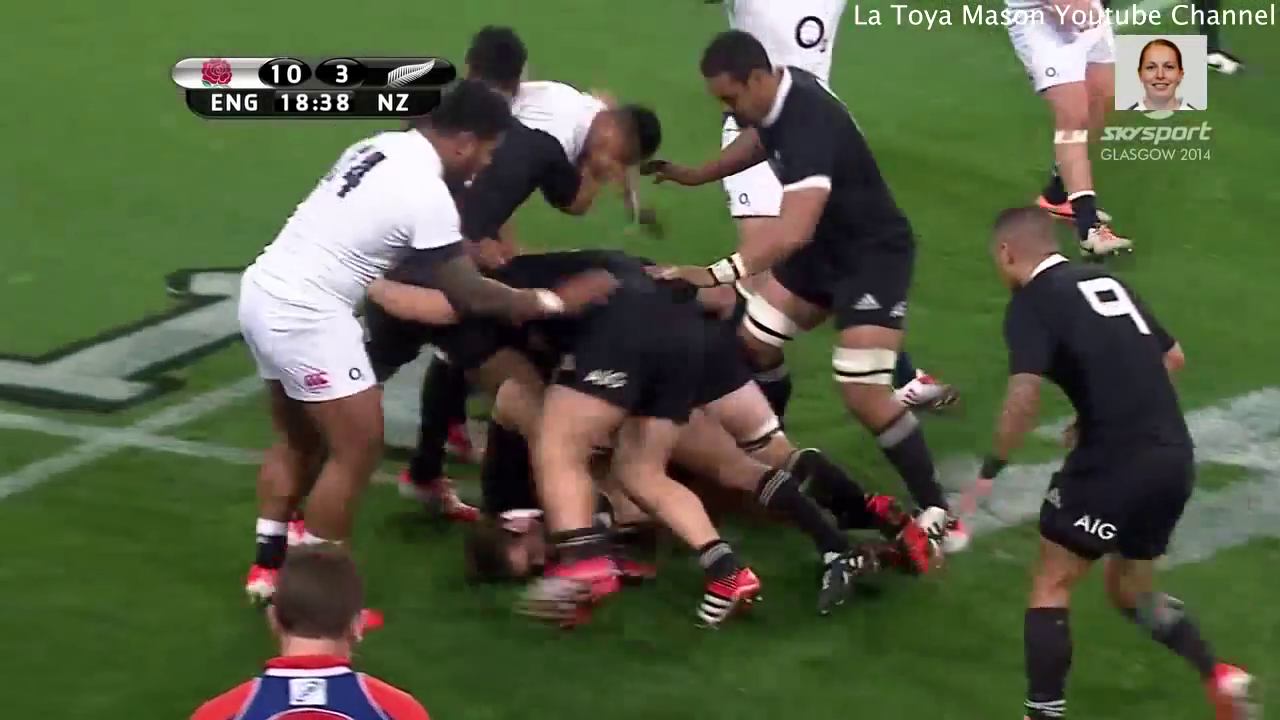player: (213, 80, 504, 668), (951, 196, 1272, 720), (679, 24, 957, 576), (461, 215, 742, 629), (347, 16, 537, 406), (181, 526, 454, 720), (988, 1, 1155, 265), (435, 62, 654, 208)
ruck: (383, 174, 923, 670)
